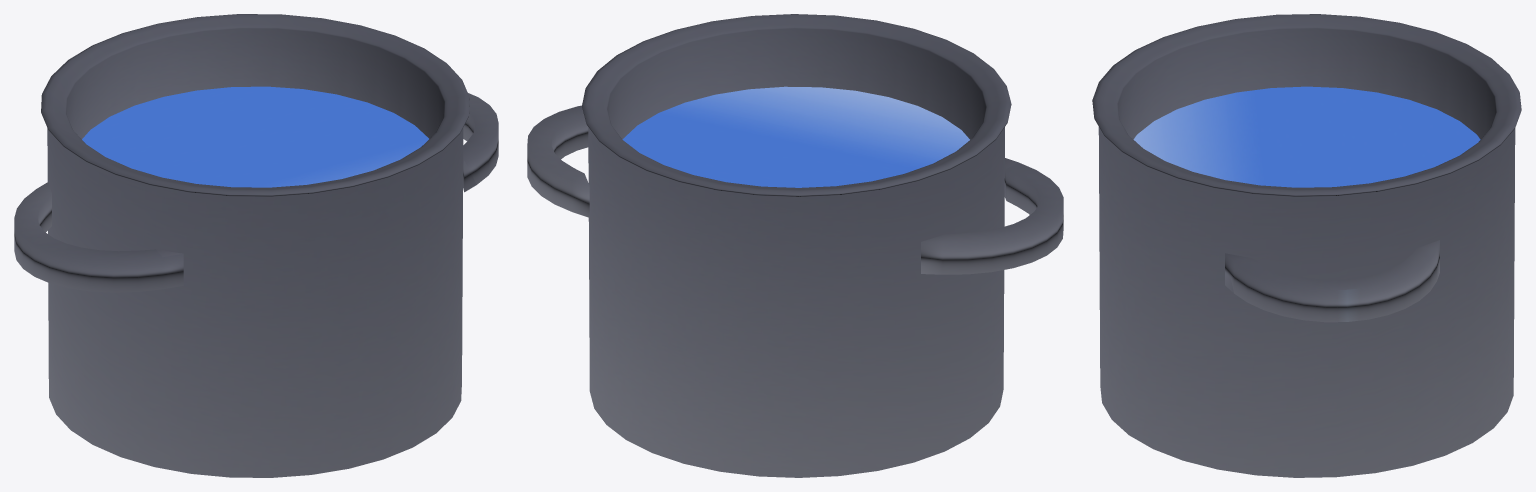
Rendered from PotwithWater.glb.
3 renders of one model, left to right at view 1: azimuth 30°, elevation 25°; view 2: azimuth 150°, elevation 25°; view 3: azimuth 270°, elevation 25°, orthographic.
Parts seen in each view (by area): view 1: PotWater; view 2: PotWater; view 3: PotWater.
Part boxes in pixels (x1,y1,x2,y2): PotWater: (14, 14, 498, 477); PotWater: (527, 14, 1063, 477); PotWater: (1092, 14, 1521, 477).
Bounding box in the file's own units: 0.4727 × 0.2684 × 0.3626.
1 material, 1 textured.
